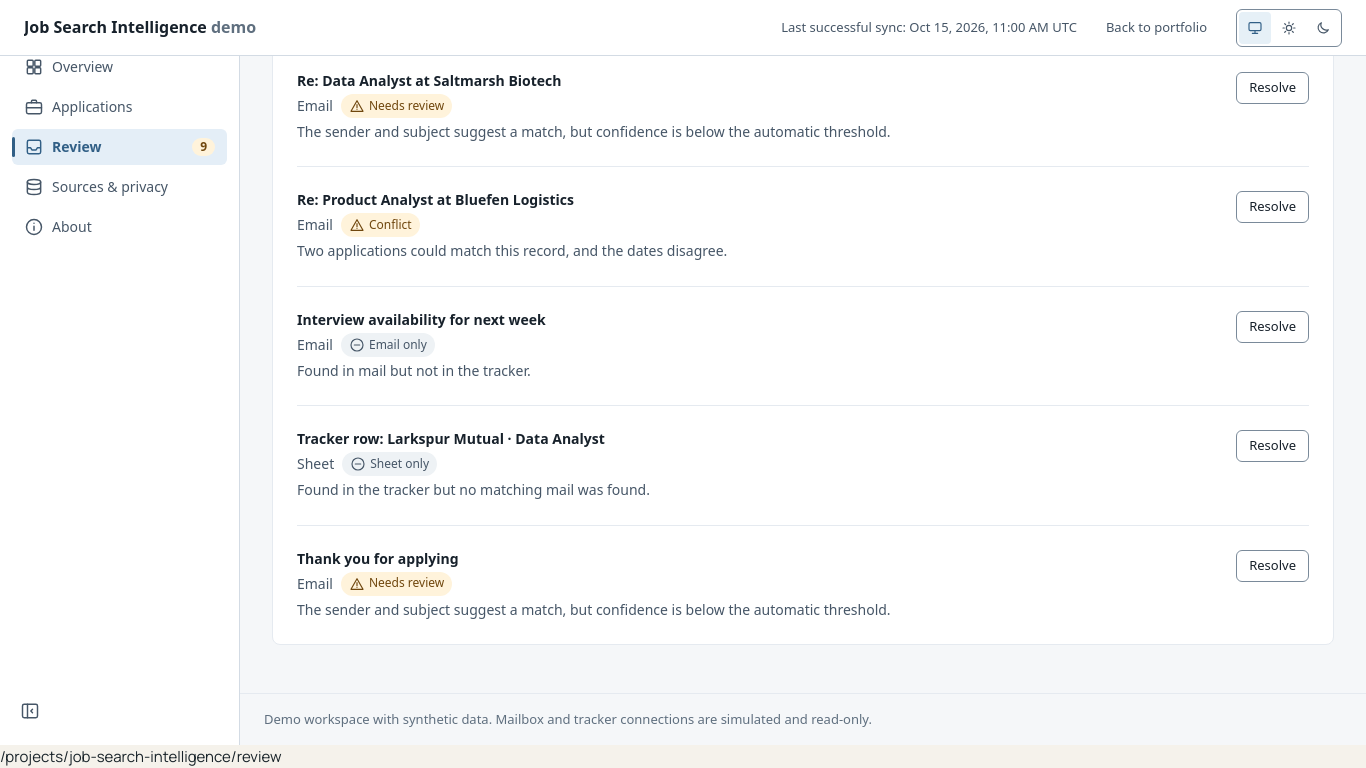
Test: review › lists source records and resolves one into an application with a verified event
(page scrolled)
Expected: the link named "Review 9 records waiting" is shown, left=12, top=129, right=227, bottom=165
Click the button with aria-label "Resolve Thank you for applying": click(1273, 566) left=1236, top=550, right=1309, bottom=582
(page scrolled)
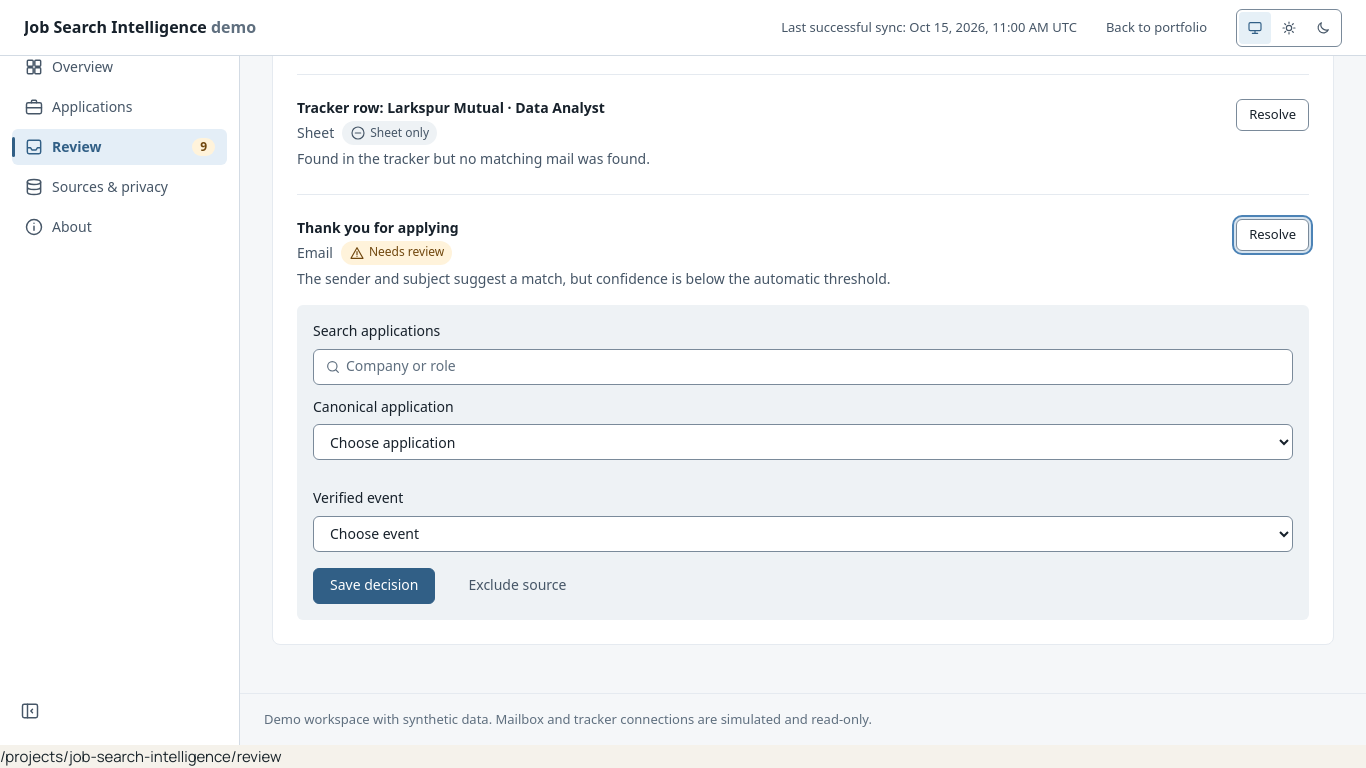
Select "Kestrel Mill Foods · Supply Chain Analyst · 2026-10-13" in the dropdown labelled "Canonical application": (803, 442) left=313, top=424, right=1293, bottom=460
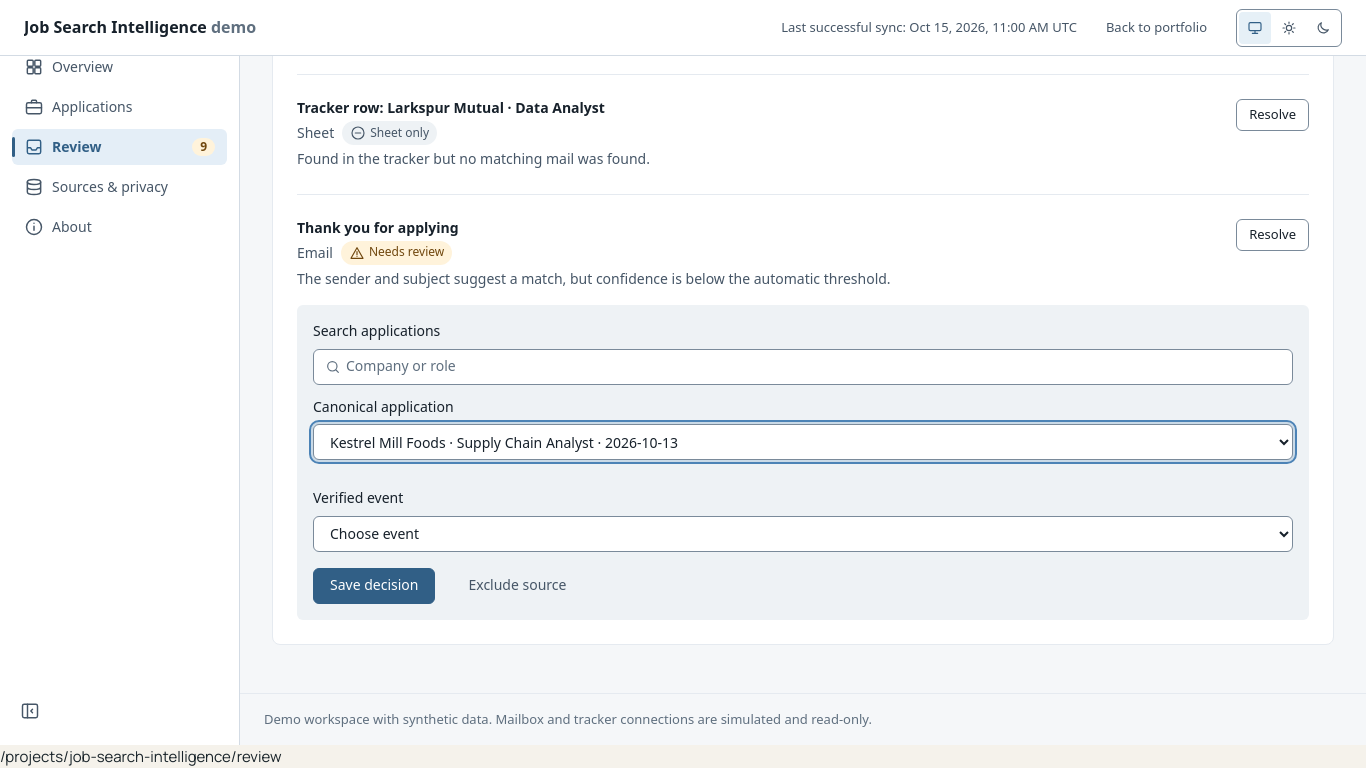
Select "Interview scheduled" in the dropdown labelled "Verified event": (803, 534) left=313, top=516, right=1293, bottom=552
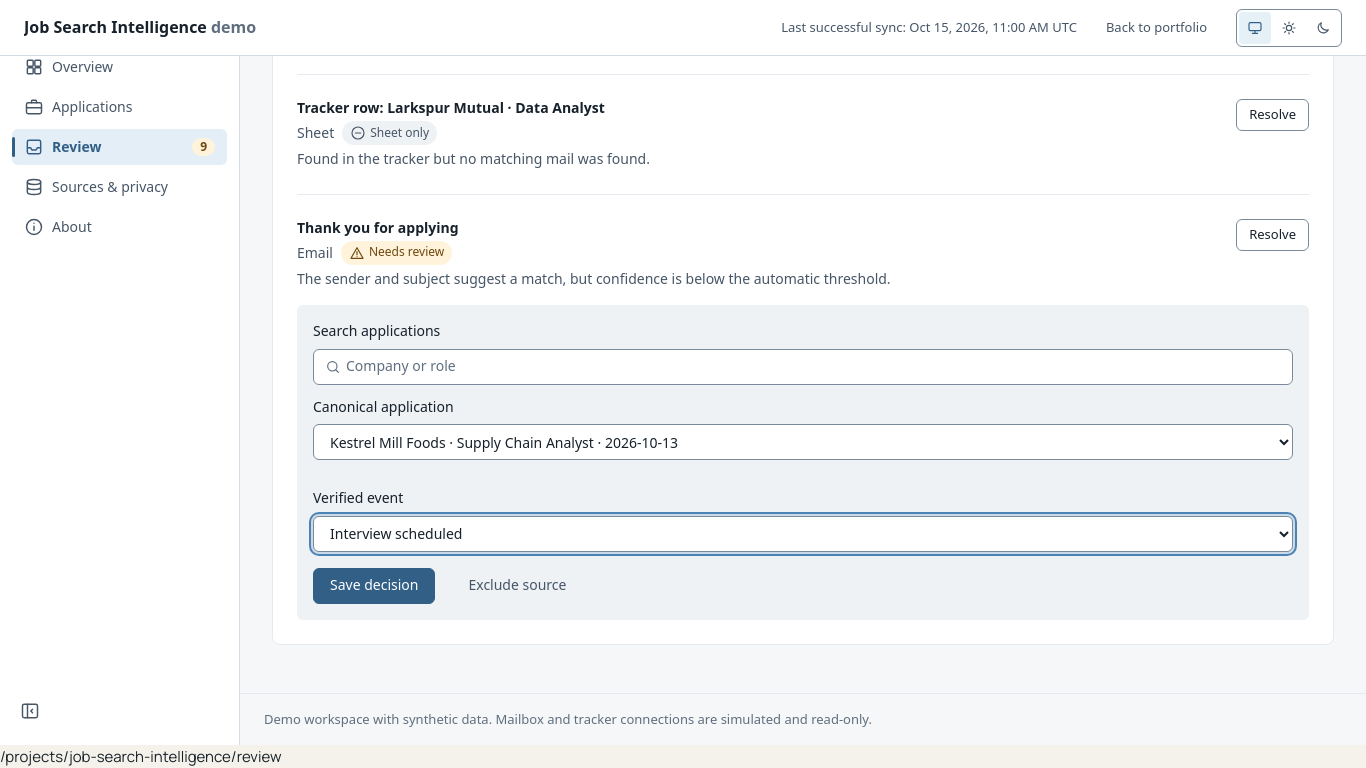
Click the button "Save decision": click(374, 586) left=313, top=568, right=436, bottom=604
(page scrolled)
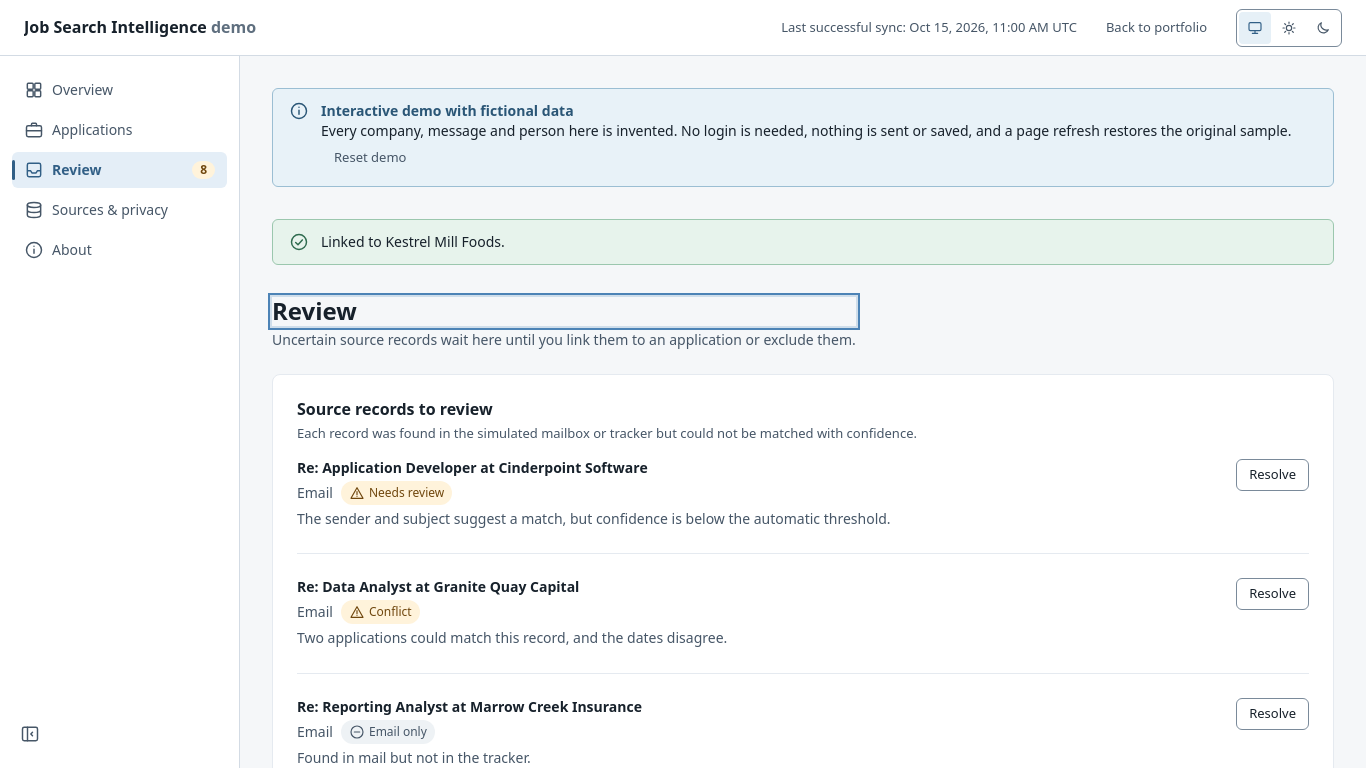
Expected: the link named "Review 8 records waiting" is shown, left=12, top=152, right=227, bottom=188
Expected: the text "Linked to Kestrel Mill Foods." is shown, left=321, top=232, right=505, bottom=252
Expected: the heading "Thank you for applying" is gone
Click the link "Applications": click(78, 130) left=24, top=120, right=132, bottom=140
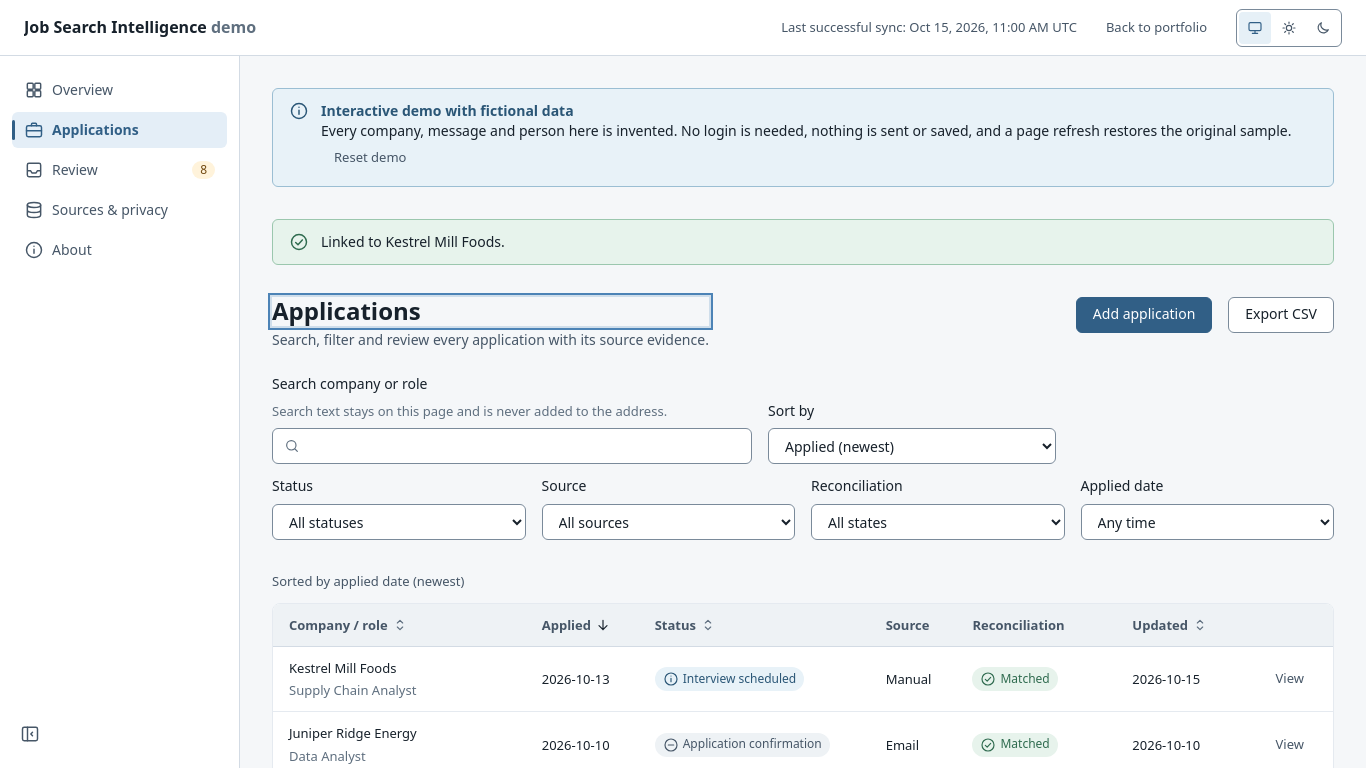
Click the button with aria-label "View Kestrel Mill Foods Supply Chain Analyst": click(1290, 679) left=1262, top=663, right=1317, bottom=695
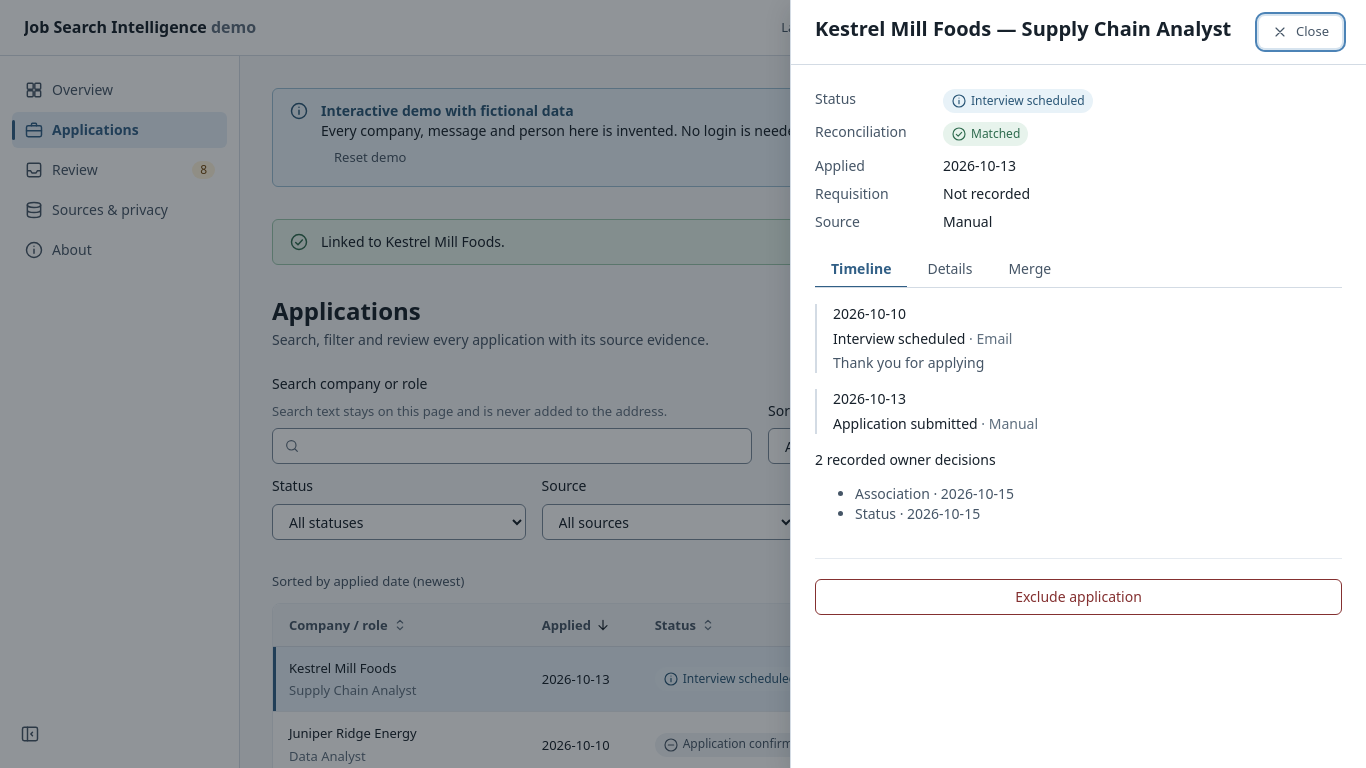
Expected: the text "Interview scheduled · Email" is shown, left=833, top=329, right=1012, bottom=348
